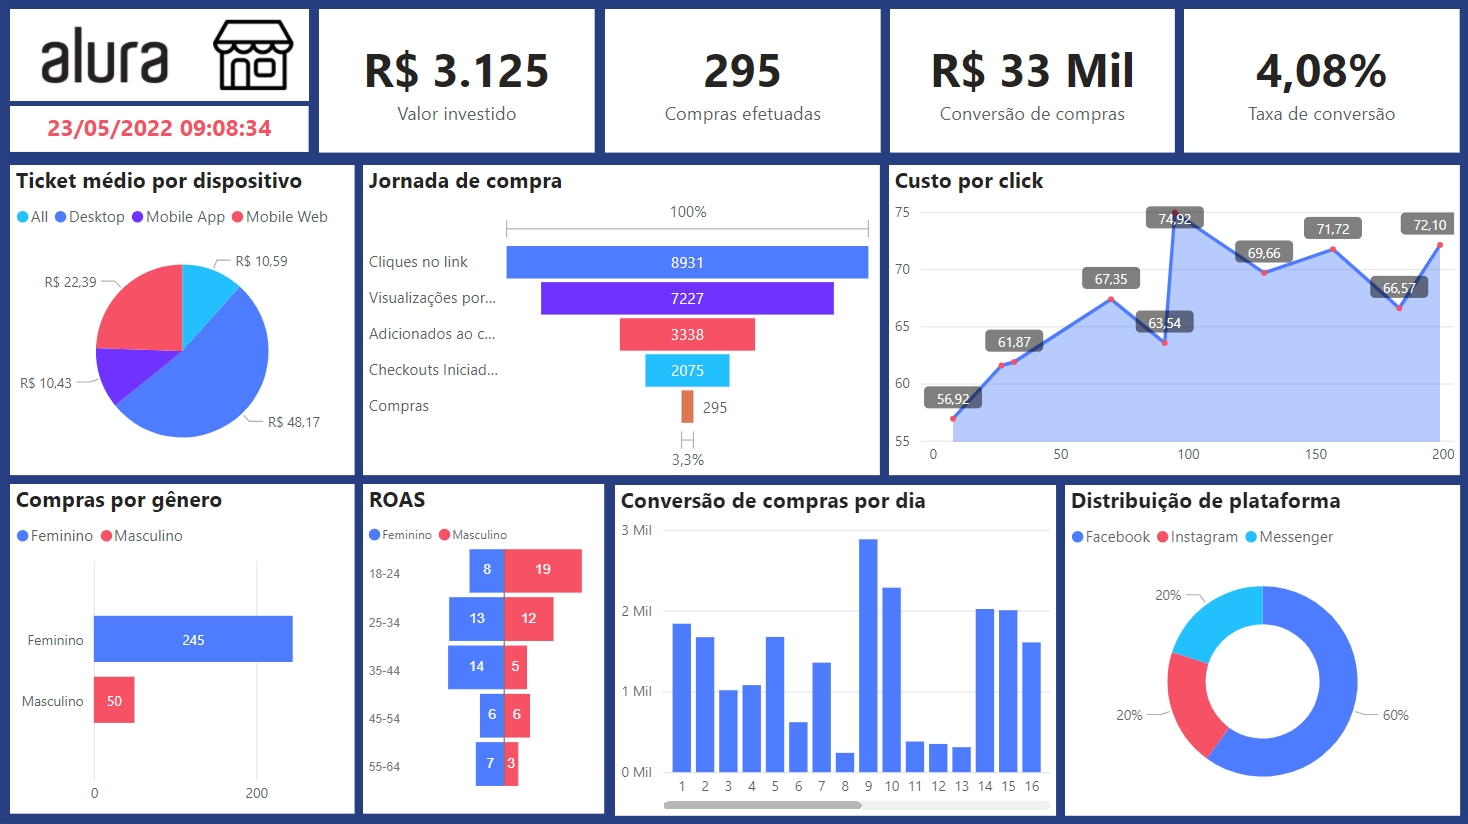

The dashboard page shown, as its layout file describes it:
{"tool":"powerbi","page":{"name":"Página 1","canvas":[1280,720],"ordinal":0},"visuals":[{"type":"shape","box":[0,0,1280,720],"z":0},{"type":"image","box":[173,10,97,80],"z":0,"group":"g1"},{"type":"image","box":[10,10,164.5,80],"z":1000,"group":"g1"},{"type":"group","id":"g1","title":"Grupo 1","box":[10,10,260,80],"z":1000},{"type":"card","fields":{"Values":["Medidas.Total investido em campanha"]},"box":[279,10,240,125],"z":2000},{"type":"card","fields":{"Values":["Medidas.Total de compras"]},"box":[528,10,240,125],"z":3000},{"type":"card","fields":{"Values":["Medidas.Total de valor convertido"]},"box":[776,10,248,125],"z":4000},{"type":"card","fields":{"Values":["Medidas.Taxa de conversão"]},"box":[1032,10,240,125],"z":5000},{"type":"pieChart","title":"Ticket médio por dispositivo","fields":{"Y":["Medidas.Ticket médio"],"Category":["Tabela_dispositivos.Plataforma do dispositivo"]},"box":[10,145,300,270],"z":6000},{"type":"funnel","title":"Jornada de compra","fields":{"Y":["Sum(Tabela_idade_e_genero.Cliques no link)","Sum(Tabela_idade_e_genero.Visualizações por página)","Sum(Tabela_idade_e_genero.Adicionados ao carrinho)","Sum(Tabela_idade_e_genero.Checkouts Iniciados)","Sum(Tabela_idade_e_genero.Compras)"]},"box":[317,145,450,270],"z":7000},{"type":"areaChart","title":"Custo por click","fields":{"Category":["Tabela_idade_e_genero.Cliques no link"],"Y":["Sum(Tabela_idade_e_genero.Quantia gasta (BRL))"]},"box":[775,145,497,270],"z":8000},{"type":"barChart","title":"Compras por gênero","fields":{"Y":["Sum(Tabela_idade_e_genero.Compras)"],"Category":["Tabela_idade_e_genero.Gênero"],"Series":["Tabela_idade_e_genero.Gênero"]},"box":[10,423,300,287],"z":9000},{"type":"TornadoChart1452517688218","title":"ROAS","fields":{"Values":["Medidas.ROAS"],"Category":["Tabela_idade_e_genero.Idade"],"Series":["Tabela_idade_e_genero.Gênero"]},"box":[317,423,210,287],"z":10000},{"type":"clusteredColumnChart","title":"Conversão de compras por dia","fields":{"Y":["Sum(Tabela_idade_e_genero.Valor de conversão de compras)"],"Category":["Tabela_idade_e_genero.Dia.Variation.Hierarquia de datas.Dia"]},"box":[536,424,384,288],"z":11000},{"type":"donutChart","title":"Distribuição de plataforma","fields":{"Category":["Tabela_dispositivos.Plataforma"],"Y":["Count(Tabela_dispositivos.Plataforma do dispositivo)"]},"box":[928,424,344,288],"z":12000},{"type":"card","fields":{"Values":["Min(Atualização.Última atualização)"]},"box":[10,94,260,40],"z":13000}]}

Visuals, with their boxes in screenshot pixels (x1, y1, x2, y2), scaled from the page's 1280x720 canvas onto the 1468x824 screenshot:
shape: select_region(0, 0, 1467, 823)
image: select_region(198, 11, 310, 103)
image: select_region(11, 11, 200, 103)
"Grupo 1" group: select_region(11, 11, 310, 103)
card - Medidas.Total investido em campanha: select_region(320, 11, 595, 154)
card - Medidas.Total de compras: select_region(606, 11, 881, 154)
card - Medidas.Total de valor convertido: select_region(890, 11, 1174, 154)
card - Medidas.Taxa de conversão: select_region(1184, 11, 1459, 154)
"Ticket médio por dispositivo" pieChart: select_region(11, 166, 356, 475)
"Jornada de compra" funnel: select_region(364, 166, 880, 475)
"Custo por click" areaChart: select_region(889, 166, 1459, 475)
"Compras por gênero" barChart: select_region(11, 484, 356, 813)
"ROAS" TornadoChart1452517688218: select_region(364, 484, 604, 813)
"Conversão de compras por dia" clusteredColumnChart: select_region(615, 485, 1055, 815)
"Distribuição de plataforma" donutChart: select_region(1064, 485, 1459, 815)
card - Min(Atualização.Última atualização): select_region(11, 108, 310, 153)
